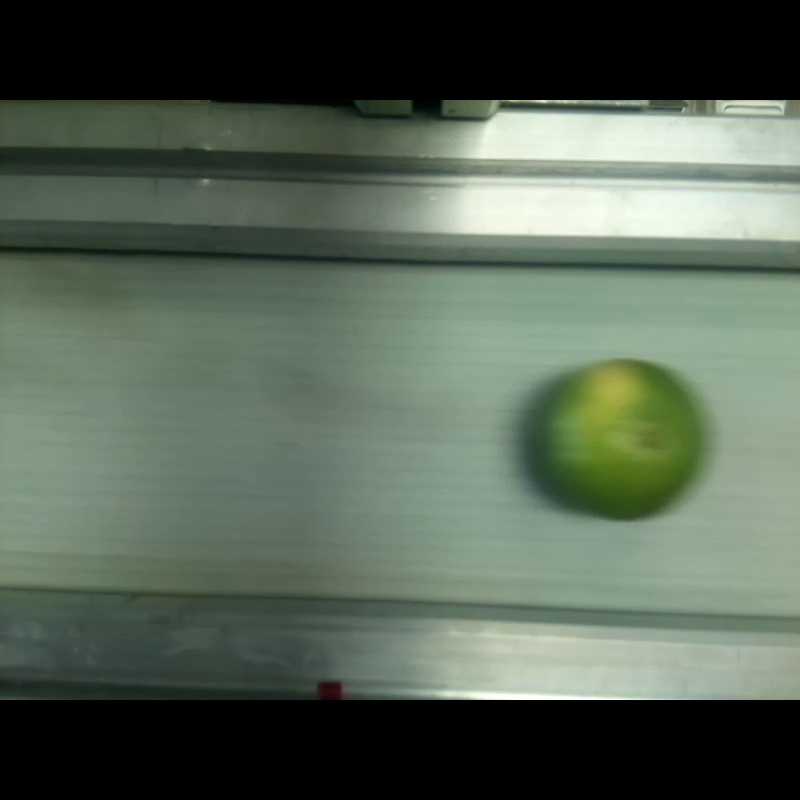lime: (534, 362, 698, 519)
